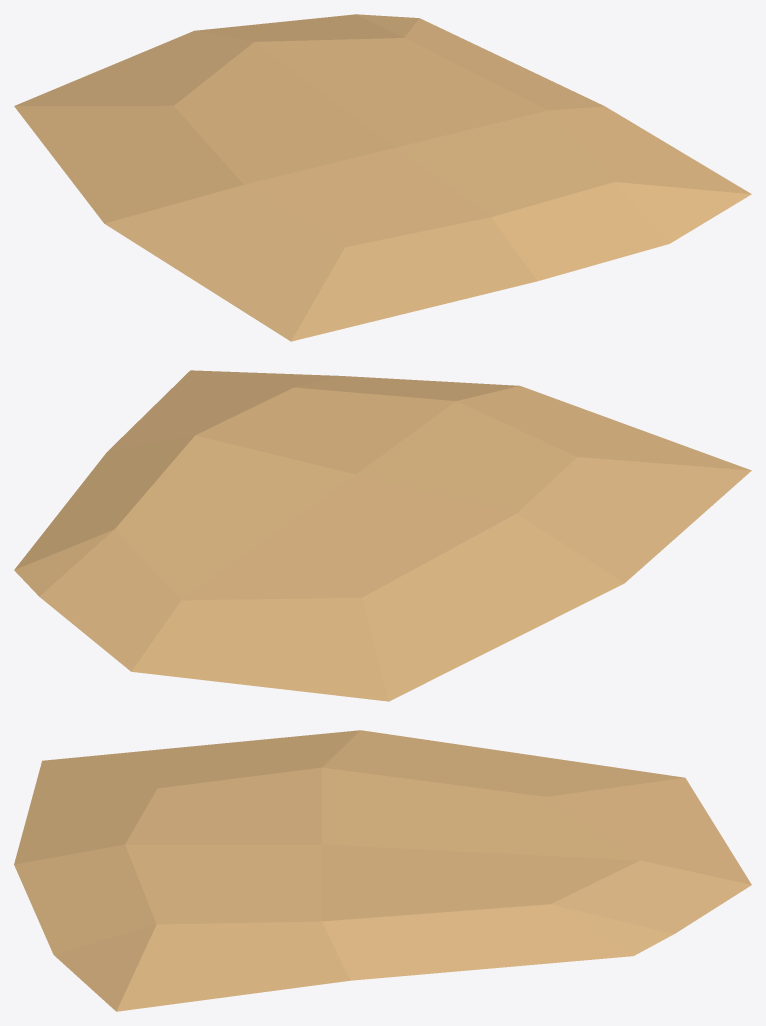
Rendered from Stone_04_Var_01.fbx.
The picture shows the model from 3 angles, top to bottom: view 1: azimuth 30°, elevation 25°; view 2: azimuth 150°, elevation 25°; view 3: azimuth 270°, elevation 25°; orthographic projection. The views are drawn at different scales.
Visible parts, largest first — view 1: Stone_04_Var_01; view 2: Stone_04_Var_01; view 3: Stone_04_Var_01.
Part boxes in pixels (x1=…): Stone_04_Var_01: x1=14, y1=14, x2=751, y2=341; Stone_04_Var_01: x1=14, y1=370, x2=751, y2=701; Stone_04_Var_01: x1=14, y1=730, x2=751, y2=1011.
Size of the model in its own units: 5.79 by 0.5475 by 4.97.
